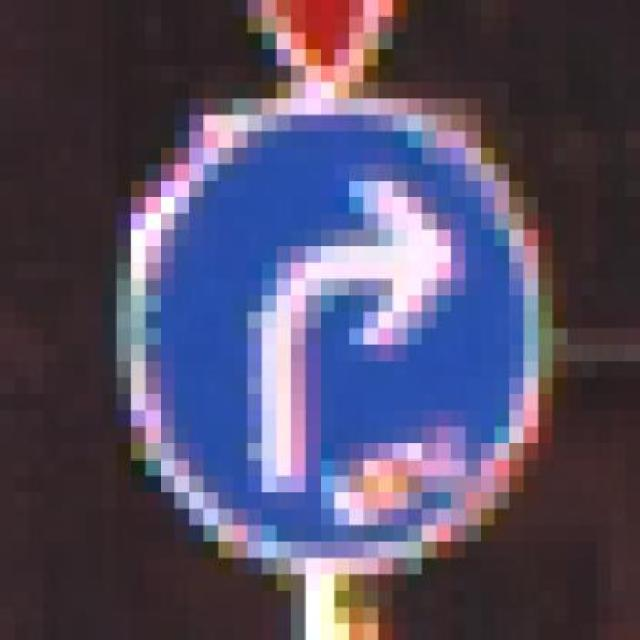Turn right ahead: (101, 82, 582, 575)
